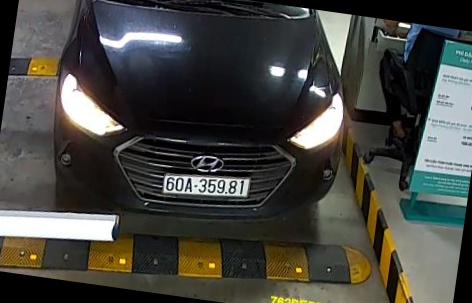plate: (158, 168, 254, 207)
